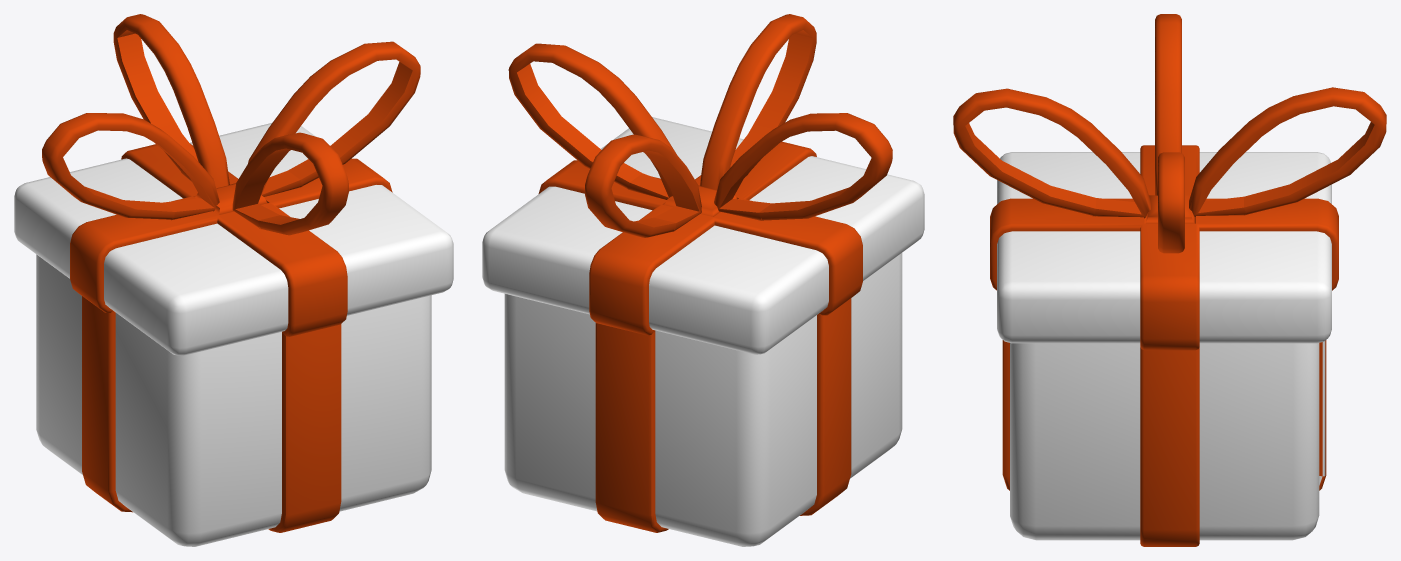
File: Gift Box_1.fbx
3 views of the same model, side by side, from view 1: azimuth 30°, elevation 25°; view 2: azimuth 150°, elevation 25°; view 3: azimuth 270°, elevation 25° (orthographic).
Visible parts, largest first — view 1: Gift Box_1; view 2: Gift Box_1; view 3: Gift Box_1.
Part boxes in pixels (x1,y1,x2,y2): Gift Box_1: [14, 14, 453, 546]; Gift Box_1: [482, 14, 924, 546]; Gift Box_1: [953, 14, 1386, 546].
Bounding box in the file's own units: 0.3616 × 0.3673 × 0.3616.
